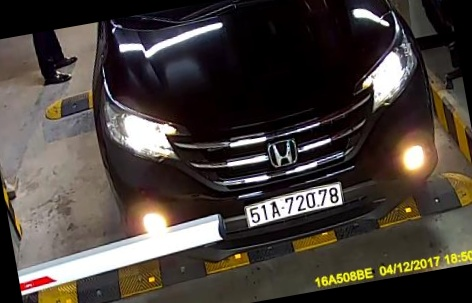plate: (242, 181, 347, 230)
